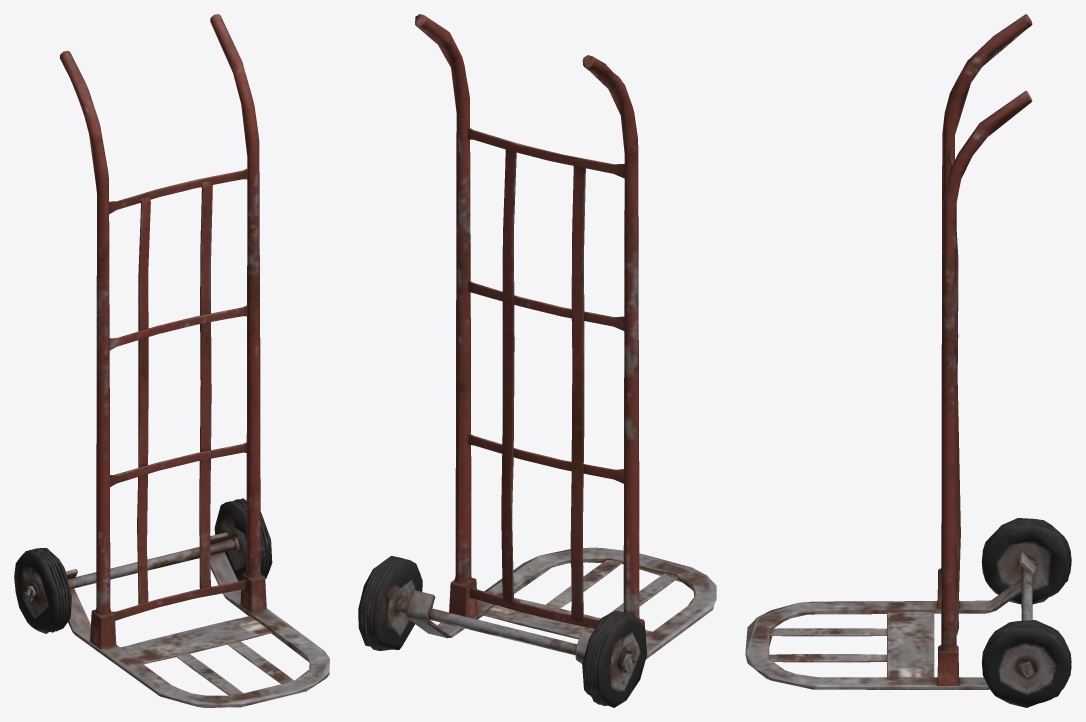
The model's file is hand_truck.slim.glb.
3 views of the same model, side by side, from view 1: azimuth 30°, elevation 25°; view 2: azimuth 150°, elevation 25°; view 3: azimuth 270°, elevation 25° (orthographic). The views are drawn at different scales.
Bounding box in the file's own units: 0.5933 × 1.4 × 0.6922.
Materials: 1 (1 with a texture image).
